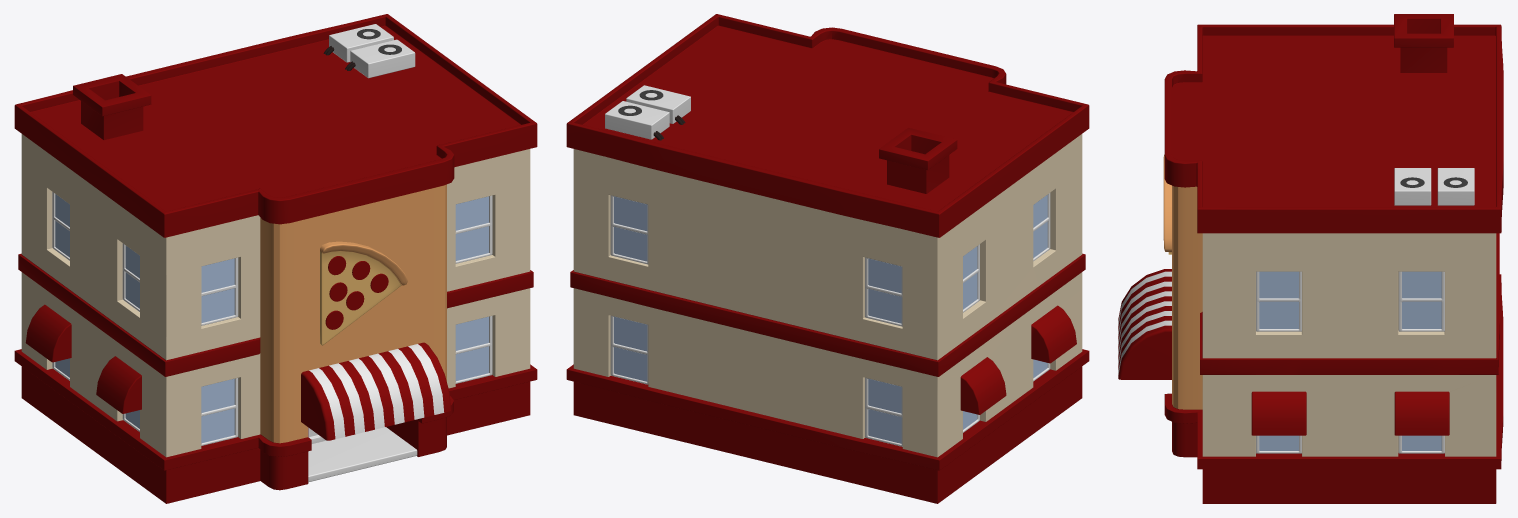
File: Building #18.fbx
3 renders of one model, left to right at view 1: azimuth 30°, elevation 25°; view 2: azimuth 150°, elevation 25°; view 3: azimuth 270°, elevation 25°, orthographic.
Visible parts, largest first — view 1: pizzaria; view 2: pizzaria; view 3: pizzaria.
Boxes of the visible parts, x1,y1,x2,y2 form: pizzaria: (14, 14, 537, 503); pizzaria: (566, 14, 1089, 503); pizzaria: (1118, 14, 1503, 503).
Size of the model in its own units: 4275 by 3249 by 3491.
